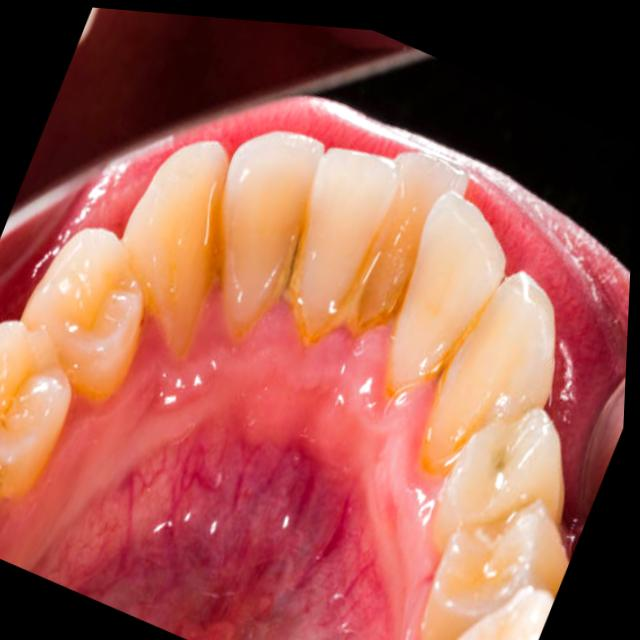calculus: (389, 313, 479, 409), (305, 245, 386, 344), (240, 225, 300, 333), (421, 411, 475, 476), (285, 226, 314, 336)
gingivitis: (198, 301, 431, 606)
